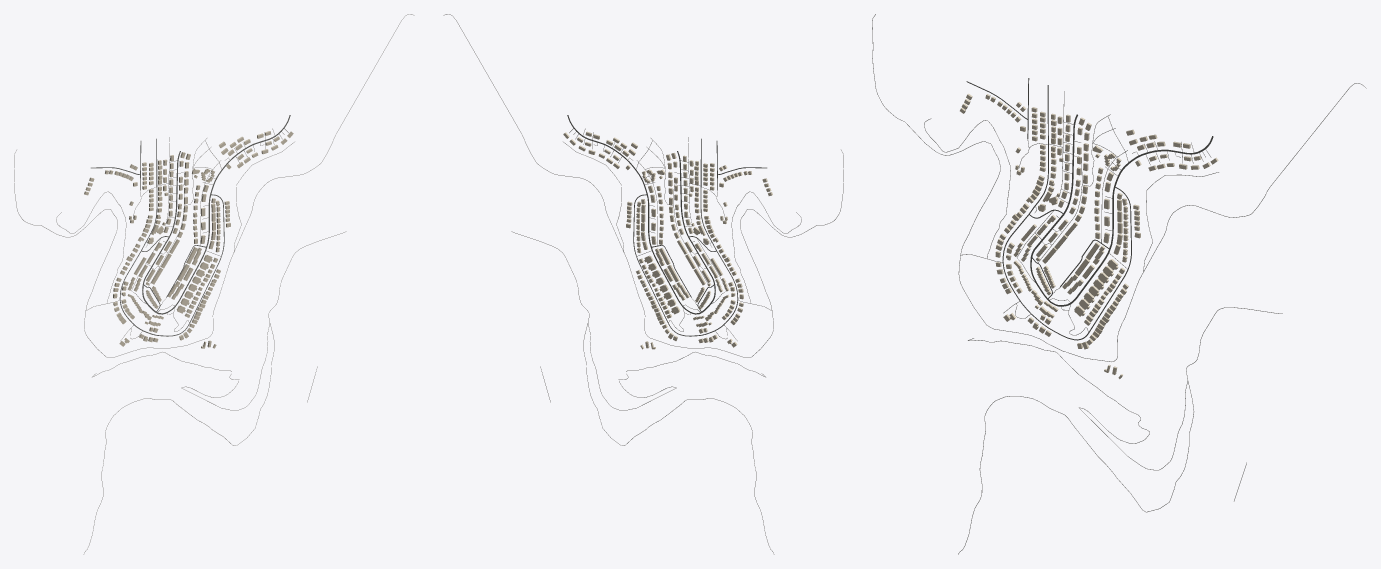
File: historic-palestine-09_27_3508_3216.glb
3 renders of one model, left to right at view 1: azimuth 30°, elevation 25°; view 2: azimuth 150°, elevation 25°; view 3: azimuth 330°, elevation 25°, orthographic. The views are drawn at different scales.
Parts seen in each view (by area): view 1: Road כביש בטחון דרום גינות שומרון; view 2: Road כביש בטחון דרום גינות שומרון; view 3: Road כביש בטחון דרום גינות שומרון.
Part boxes in pixels (<box>): Road כביש בטחון דרום גינות שומרון: <box>14,14,414,357</box>; Road כביש בטחון דרום גינות שומרון: <box>443,14,843,357</box>; Road כביש בטחון דרום גינות שומרון: <box>872,14,1366,361</box>.
Size of the model in its own units: 1657 by 1824 by 8.7.
